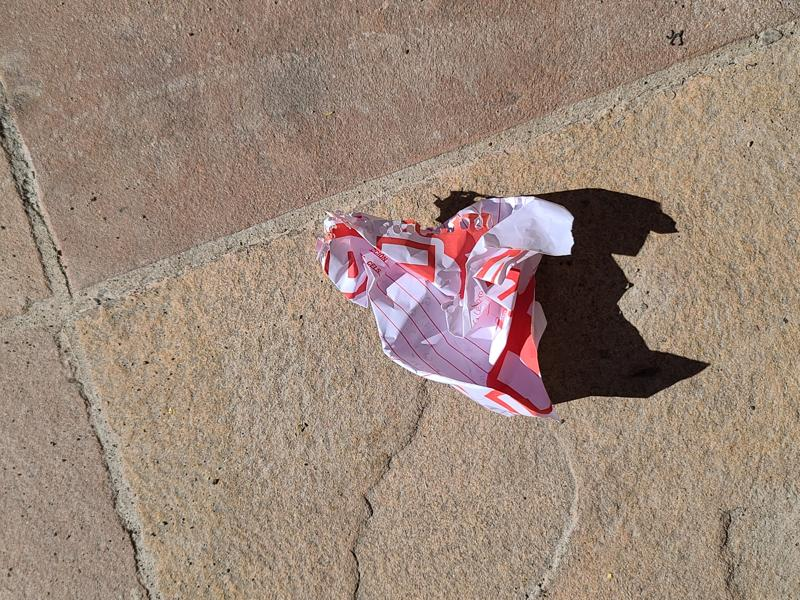papel: (316, 193, 579, 418)
